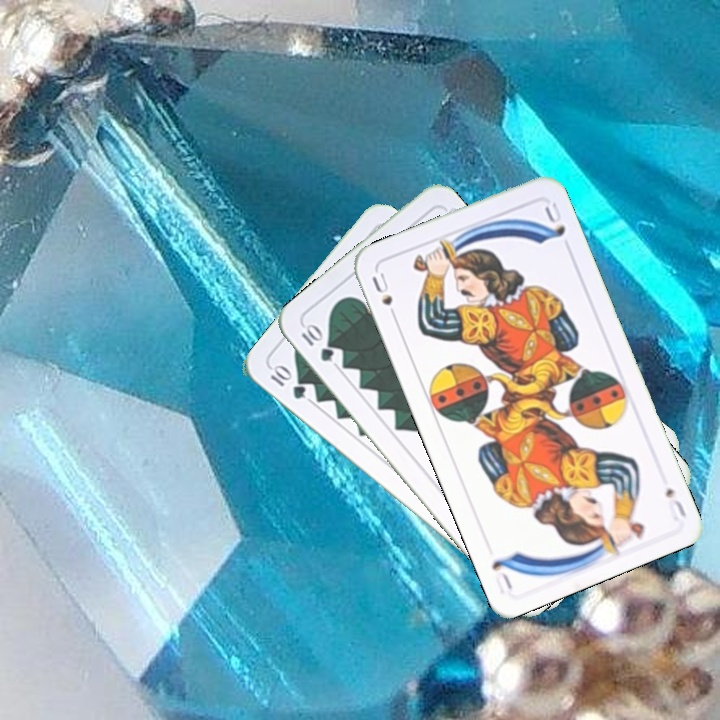G10: (297, 320, 337, 365), (266, 361, 309, 402)
SU: (367, 268, 401, 325), (661, 483, 690, 523)
